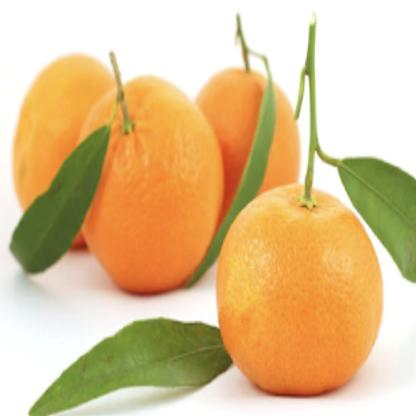fresh: (13, 46, 396, 393)
